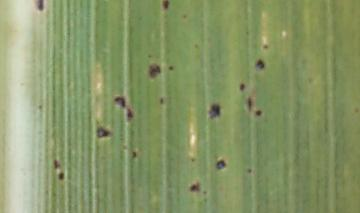tarspot: (207, 101, 221, 119), (147, 62, 161, 79), (96, 125, 111, 138), (113, 95, 127, 108), (214, 158, 227, 171), (254, 56, 265, 70), (189, 181, 201, 193), (246, 94, 253, 112), (126, 107, 134, 121), (35, 1, 45, 12), (56, 170, 65, 181), (238, 80, 246, 92), (52, 158, 60, 169), (162, 1, 171, 10), (130, 148, 138, 158), (192, 41, 200, 49), (180, 12, 188, 20), (158, 95, 165, 104), (255, 108, 262, 117), (36, 102, 43, 110), (167, 64, 175, 71), (261, 43, 269, 50), (189, 155, 196, 163), (201, 188, 208, 196), (146, 52, 153, 59), (247, 167, 253, 174)
